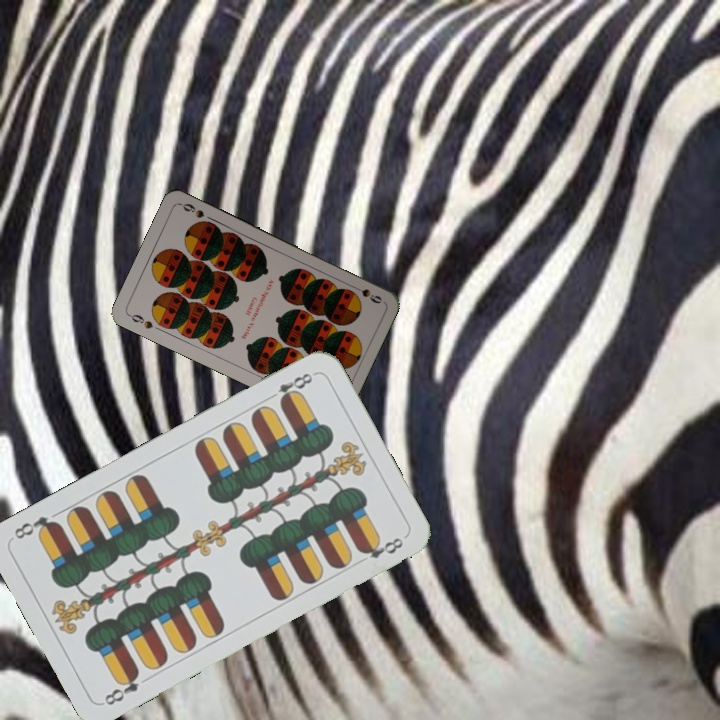E8: (263, 368, 318, 407), (100, 666, 142, 708)
S9: (347, 281, 385, 306), (125, 310, 155, 331)
